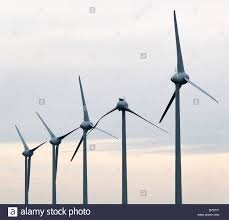faulty: (98, 86, 146, 126)
working: (161, 38, 195, 105)
